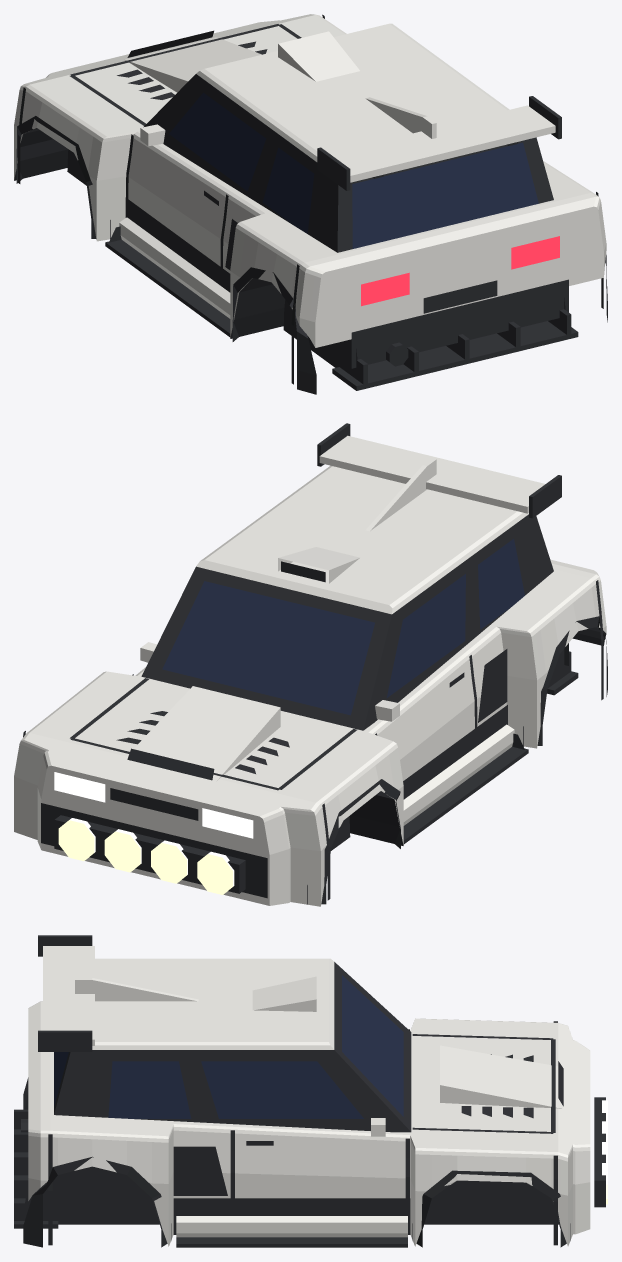
The model's file is Fauve.glb.
The picture shows the model from 3 angles, top to bottom: view 1: azimuth 30°, elevation 25°; view 2: azimuth 150°, elevation 25°; view 3: azimuth 270°, elevation 25°; orthographic projection. The views are drawn at different scales.
Visible parts, largest first — view 1: BumperRear, Roof, RearWindow, Pillars, TailGarnish, Hood, Door_FL, Opt_Wing_Rally_WingBlade, Fender_FL, Opt_Diffuser_Race_AccDiffuserRace, Window_FL, Underbody (+22 smaller); view 2: Roof, BumperFront, Windshield, Pillars, Hood, Opt_Hood_Scoop_HoodScoop, Fender_RL, Opt_Wing_Rally_WingBlade, Door_FL, Opt_Bumper_Lamps_RallyLamp, Window_FL, Cowl (+20 smaller); view 3: Roof, Pillars, Hood, Door_FR, WheelWell, Window_FR, Fender_RR, BumperFront, Opt_Hood_Scoop_HoodScoop, Fender_FR, Opt_Skirts_Side_AccSkirt_R, Windshield (+18 smaller).
Boxes of the visible parts, left/top/right/bottom form: BumperRear: left=296, top=193, right=606, bottom=347; Roof: left=196, top=23, right=509, bottom=161; RearWindow: left=352, top=142, right=538, bottom=248; Pillars: left=143, top=74, right=553, bottom=252; TailGarnish: left=351, top=279, right=568, bottom=368; Hood: left=30, top=15, right=344, bottom=136; Door_FL: left=128, top=131, right=234, bottom=269; Opt_Wing_Rally_WingBlade: left=330, top=105, right=555, bottom=182; Fender_FL: left=20, top=85, right=136, bottom=241; Opt_Diffuser_Race_AccDiffuserRace: left=332, top=309, right=578, bottom=390; Window_FL: left=169, top=92, right=266, bottom=191; Underbody: left=14, top=128, right=285, bottom=338; Roof: left=196, top=465, right=528, bottom=614; BumperFront: left=14, top=733, right=326, bottom=906; Windshield: left=162, top=581, right=374, bottom=715; Pillars: left=141, top=514, right=553, bottom=730; Hood: left=30, top=671, right=392, bottom=802; Opt_Hood_Scoop_HoodScoop: left=124, top=686, right=280, bottom=781; Fender_RL: left=466, top=577, right=600, bottom=748; Opt_Wing_Rally_WingBlade: left=319, top=435, right=545, bottom=513; Door_FL: left=368, top=652, right=474, bottom=780; Opt_Bumper_Lamps_RallyLamp: left=58, top=818, right=234, bottom=894; Window_FL: left=386, top=574, right=465, bottom=697; Cowl: left=137, top=569, right=590, bottom=732; Roof: left=92, top=958, right=334, bottom=1049; Pillars: left=54, top=962, right=411, bottom=1132; Hood: left=410, top=1018, right=558, bottom=1151; Door_FR: left=230, top=1126, right=410, bottom=1198; WheelWell: left=24, top=1093, right=558, bottom=1224; Window_FR: left=201, top=1061, right=363, bottom=1118; Fender_RR: left=48, top=1124, right=230, bottom=1246; BumperFront: left=558, top=1023, right=590, bottom=1246; Opt_Hood_Scoop_HoodScoop: left=440, top=1045, right=562, bottom=1108; Fender_FR: left=410, top=1136, right=558, bottom=1246; Opt_Skirts_Side_AccSkirt_R: left=176, top=1216, right=407, bottom=1237; Windshield: left=342, top=975, right=403, bottom=1116.
Size of the model in its own units: 6.7 by 4.51 by 12.05.
